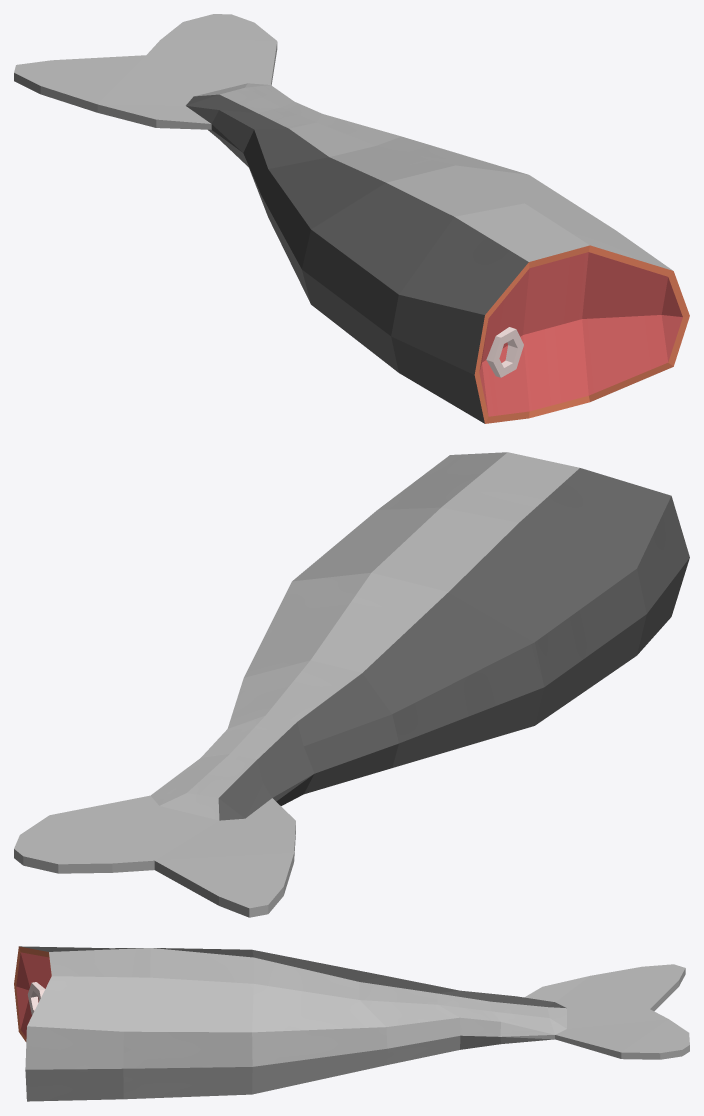
Rendered from fish_001.glb.
The picture shows the model from 3 angles, top to bottom: view 1: azimuth 30°, elevation 25°; view 2: azimuth 150°, elevation 25°; view 3: azimuth 270°, elevation 25°; orthographic projection. The views are drawn at different scales.
Parts seen in each view (by area): view 1: fish_001; view 2: fish_001; view 3: fish_001.
Boxes of the visible parts, x1,y1,x2,y2 form: fish_001: (14, 14, 689, 423); fish_001: (14, 452, 689, 917); fish_001: (14, 946, 689, 1101).
Size of the model in its own units: 0.0974 by 0.0555 by 0.2751.
1 material, 1 textured.
